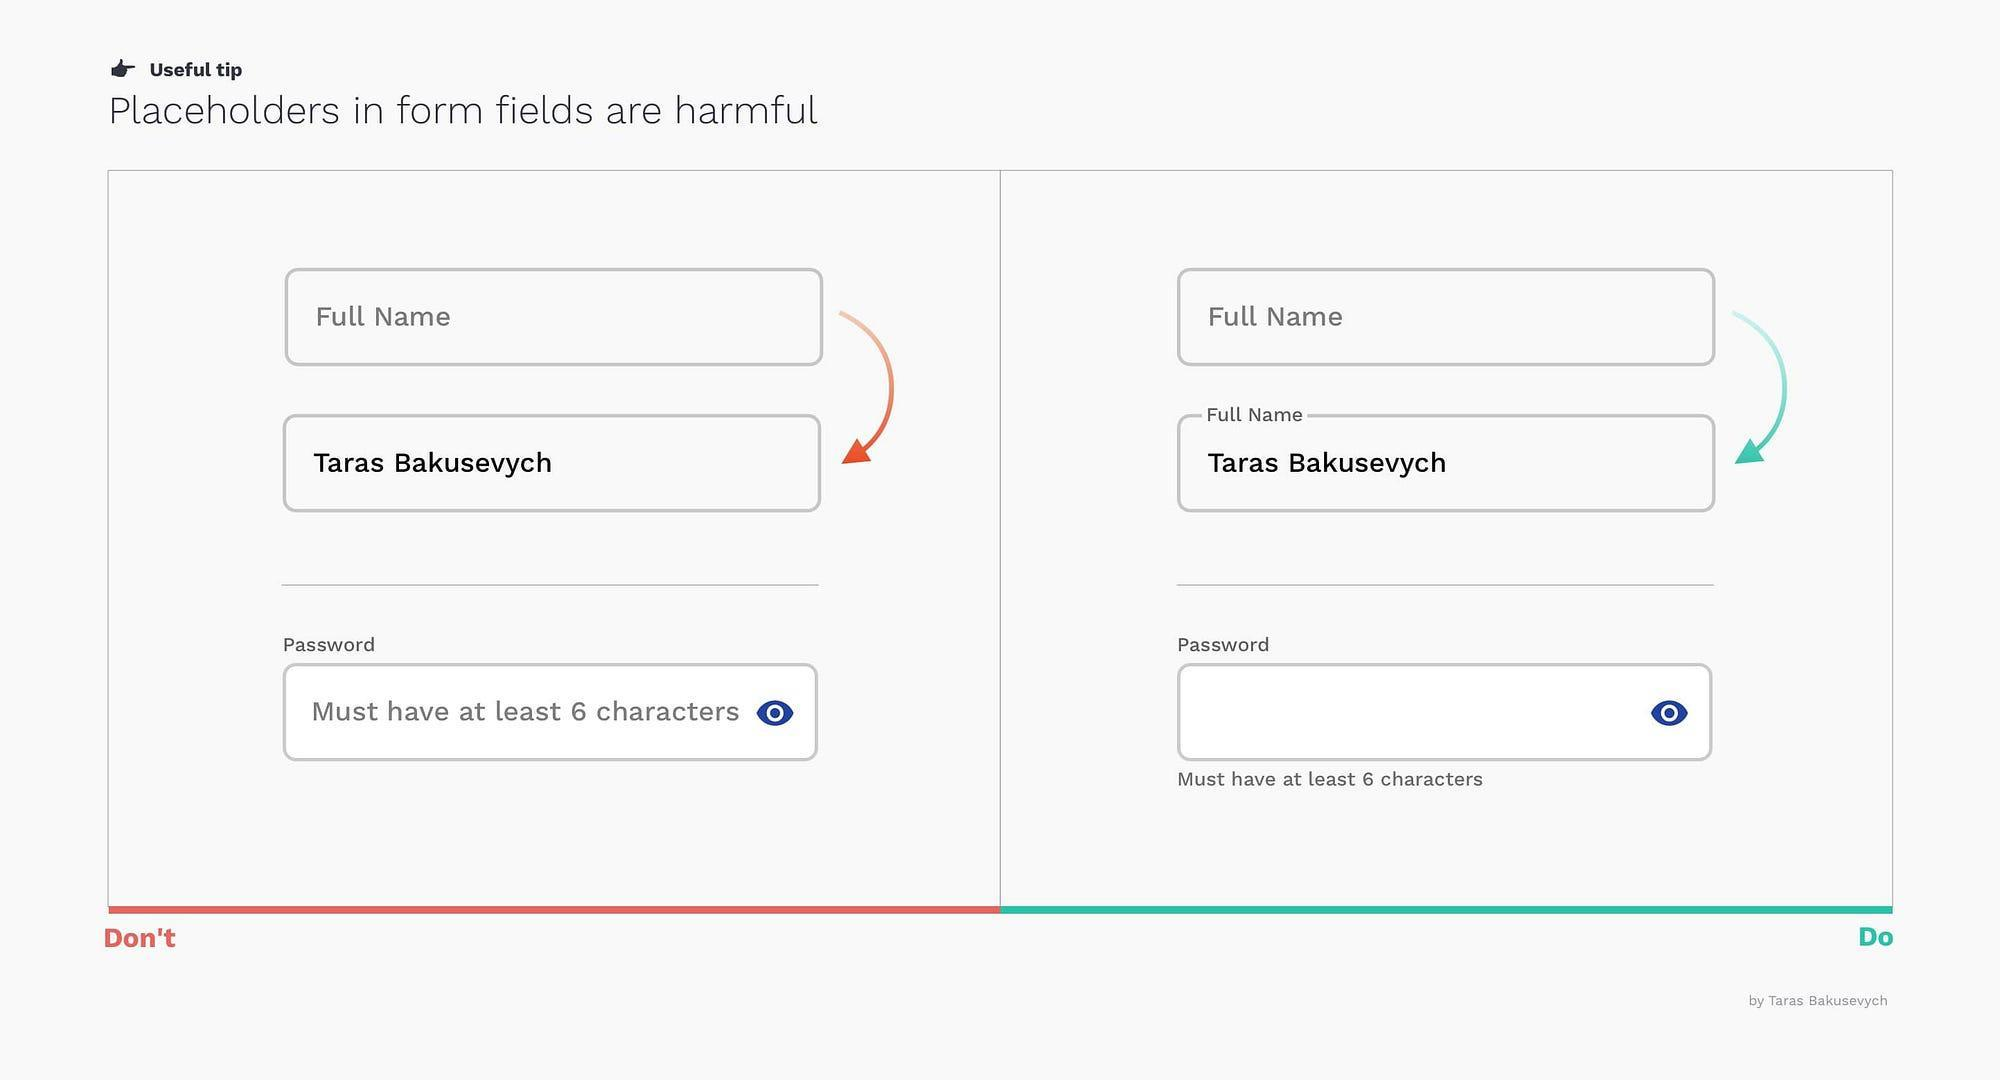input: (1180, 411, 1718, 516), (1177, 662, 1714, 767), (286, 267, 824, 368), (1180, 267, 1718, 368), (283, 662, 819, 763), (286, 414, 823, 513)
label: (1176, 634, 1277, 658), (281, 634, 379, 657), (1206, 406, 1305, 426)
